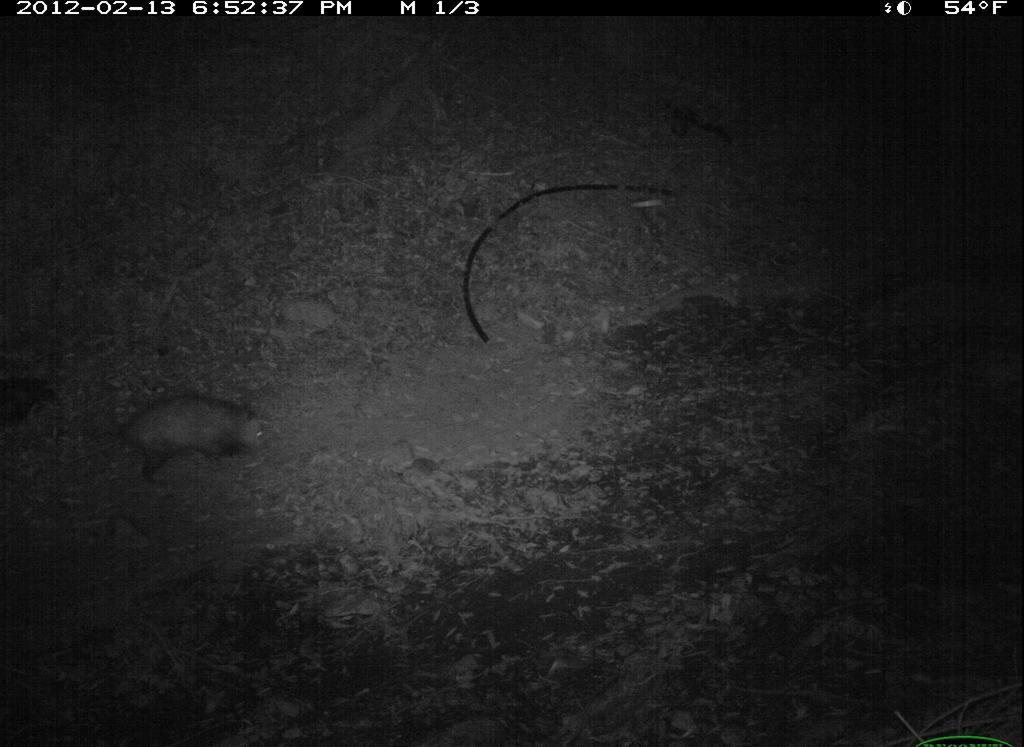opossum: (58, 385, 273, 495)
